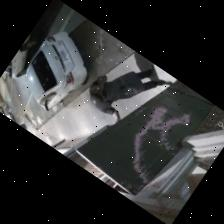person: (89, 65, 165, 121)
